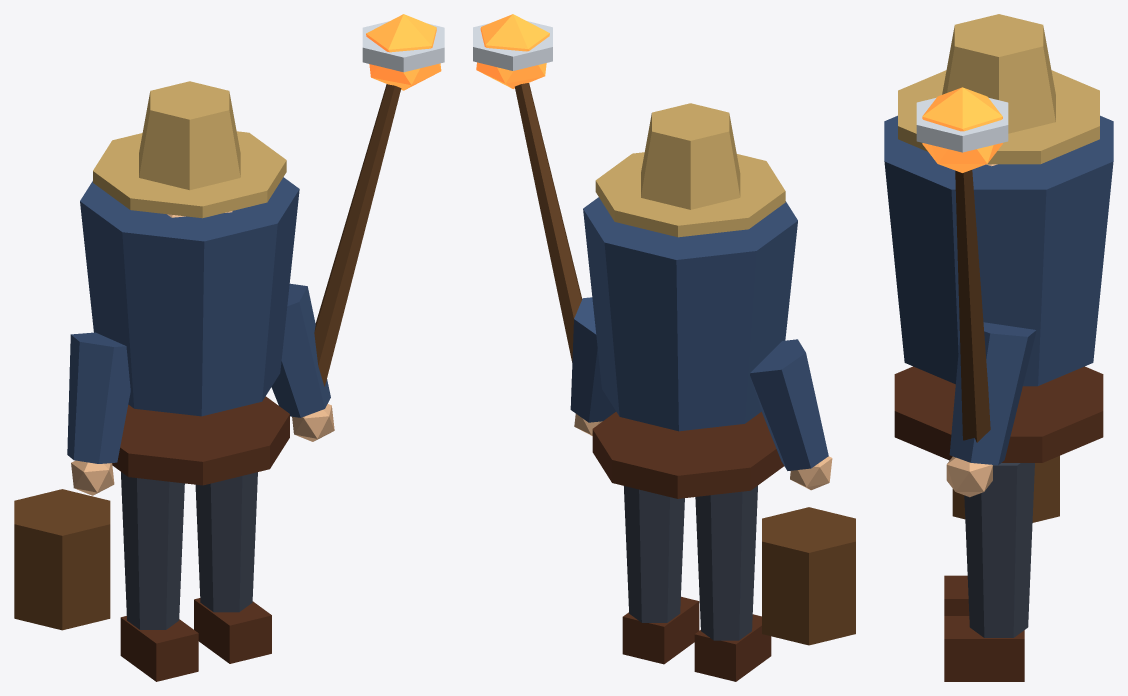
Rendered from npc_fisher.glb.
3 views of the same model, side by side, from view 1: azimuth 30°, elevation 25°; view 2: azimuth 150°, elevation 25°; view 3: azimuth 270°, elevation 25° (orthographic). The views are drawn at different scales.
Parts seen in each view (by area): view 1: npc_fisher_lod0; view 2: npc_fisher_lod0; view 3: npc_fisher_lod0.
Part boxes in pixels (x1=…): npc_fisher_lod0: x1=14, y1=14, x2=444, y2=681; npc_fisher_lod0: x1=473, y1=14, x2=855, y2=681; npc_fisher_lod0: x1=884, y1=14, x2=1113, y2=681.
Size of the model in its own units: 1.45 by 2.03 by 0.6282.
